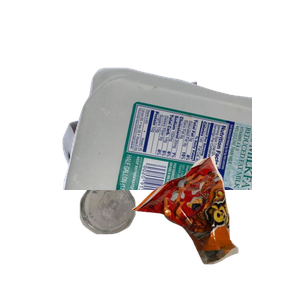glass: (77, 178, 205, 300)
metal: (60, 79, 300, 259)
plastic: (60, 65, 300, 245)
trash: (130, 153, 300, 300)
